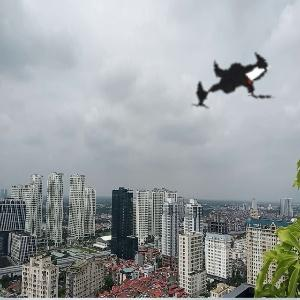drone: (170, 24, 300, 154)
